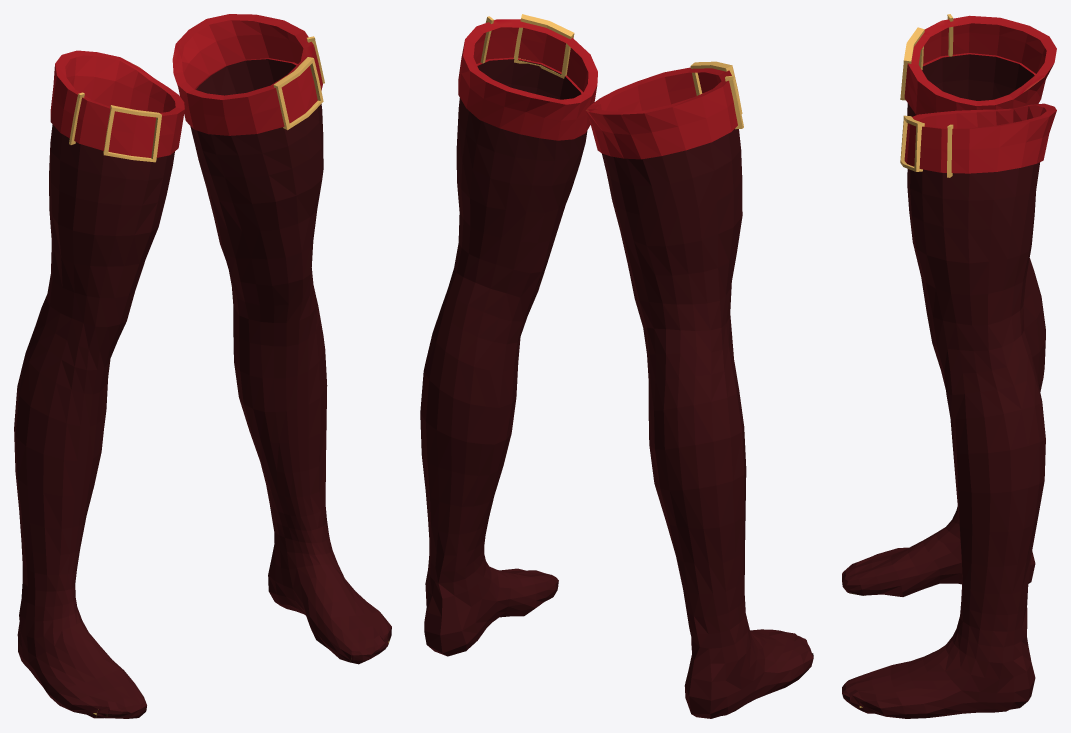
File: mhw_jaldmic_stockings.glb
3 views of the same model, side by side, from view 1: azimuth 30°, elevation 25°; view 2: azimuth 150°, elevation 25°; view 3: azimuth 270°, elevation 25° (orthographic). The views are drawn at different scales.
Visible parts, largest first — view 1: mhw_jaldmic_stockings; view 2: mhw_jaldmic_stockings; view 3: mhw_jaldmic_stockings.
Part boxes in pixels (left/top/right/bottom): mhw_jaldmic_stockings: left=14, top=14, right=391, bottom=718; mhw_jaldmic_stockings: left=420, top=14, right=813, bottom=718; mhw_jaldmic_stockings: left=842, top=14, right=1056, bottom=718.
Size of the model in its own units: 0.541 by 0.9393 by 0.3166.
1 material, 1 textured.
